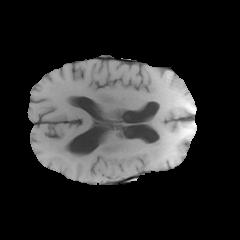glioma: (54, 106, 194, 165)
